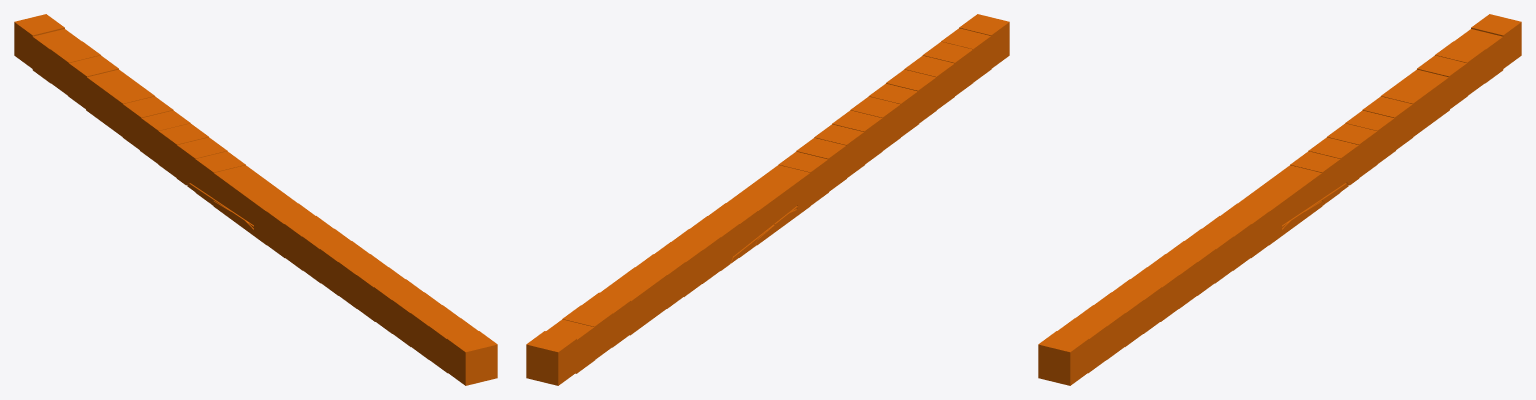
File: vigasolad_esta.gltf
3 renders of one model, left to right at view 1: azimuth 30°, elevation 25°; view 2: azimuth 150°, elevation 25°; view 3: azimuth 330°, elevation 25°, orthographic.
Parts seen in each view (by area): view 1: Cubo.011, Cubo, Cubo.009, Cubo.005, Cubo.010, Cubo.008, Cubo.002, Cubo.003, Cubo.012, Cubo.021, Cubo.013, Cubo.022 (+13 smaller); view 2: Cubo, Cubo.005, Cubo.011, Cubo.021, Cubo.023, Cubo.002, Cubo.012, Cubo.013, Cubo.022, Cubo.020, Cubo.024, Cubo.016 (+13 smaller); view 3: Cubo.011, Cubo.009, Cubo, Cubo.005, Cubo.010, Cubo.008, Cubo.002, Cubo.012, Cubo.021, Cubo.013, Cubo.019, Cubo.003 (+13 smaller).
Boxes of the visible parts, x1,y1,x2,y2 form: Cubo.011: (447, 331, 497, 385); Cubo: (14, 14, 64, 68); Cubo.009: (176, 137, 227, 191); Cubo.005: (104, 82, 154, 136); Cubo.010: (195, 151, 245, 205); Cubo.008: (158, 123, 208, 177); Cubo.002: (50, 41, 100, 95); Cubo.003: (68, 55, 118, 109); Cubo.012: (320, 241, 369, 295); Cubo.021: (374, 279, 423, 333); Cubo.013: (338, 254, 387, 308); Cubo.022: (392, 292, 441, 346); Cubo: (526, 331, 576, 385); Cubo.005: (617, 267, 667, 321); Cubo.011: (959, 14, 1009, 68); Cubo.021: (886, 69, 936, 123); Cubo.023: (922, 41, 973, 95); Cubo.002: (562, 305, 612, 359); Cubo.012: (832, 110, 882, 164); Cubo.013: (850, 96, 900, 150); Cubo.022: (904, 55, 954, 109); Cubo.020: (796, 137, 846, 191); Cubo.024: (941, 28, 991, 82); Cubo.016: (778, 151, 828, 205); Cubo.011: (1038, 331, 1088, 385); Cubo.009: (1308, 137, 1359, 191); Cubo: (1471, 14, 1521, 68); Cubo.005: (1381, 82, 1431, 136); Cubo.010: (1290, 151, 1340, 205); Cubo.008: (1327, 123, 1377, 177); Cubo.002: (1435, 41, 1485, 95); Cubo.012: (1166, 241, 1215, 295); Cubo.021: (1112, 279, 1161, 333); Cubo.013: (1148, 254, 1197, 308); Cubo.019: (1238, 190, 1287, 245); Cubo.003: (1417, 55, 1467, 108).
Size of the model in its own units: 0.2 by 0.2301 by 4.86.
